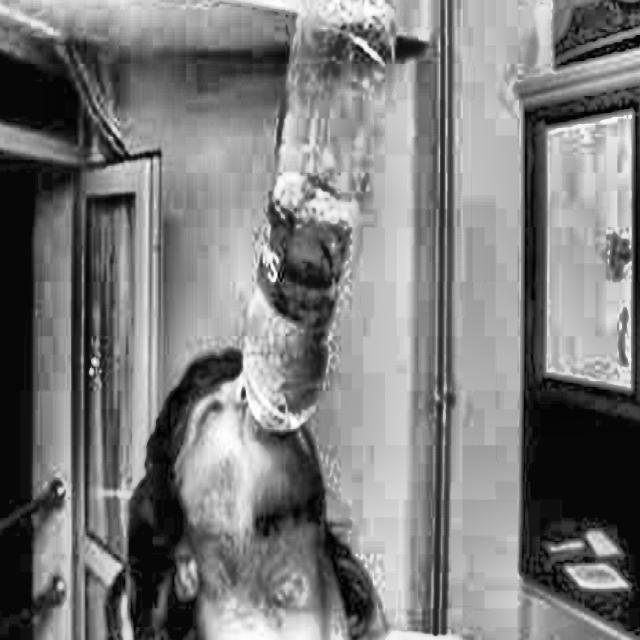waterbottle: (240, 0, 400, 445)
